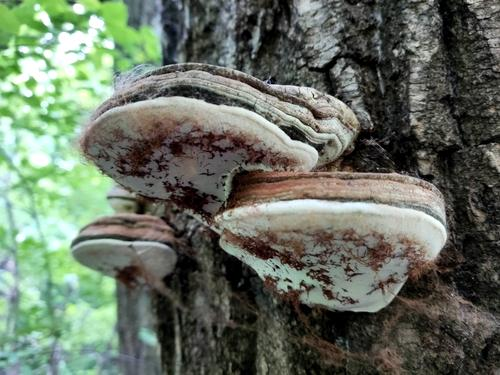Ganoderma - Fruit Body: (216, 174, 450, 312), (78, 60, 356, 170), (70, 212, 182, 303)
